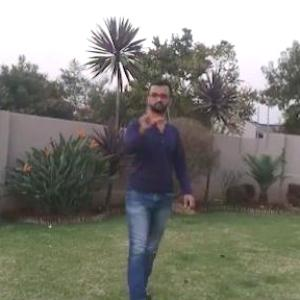land_hand: (132, 97, 164, 135)
